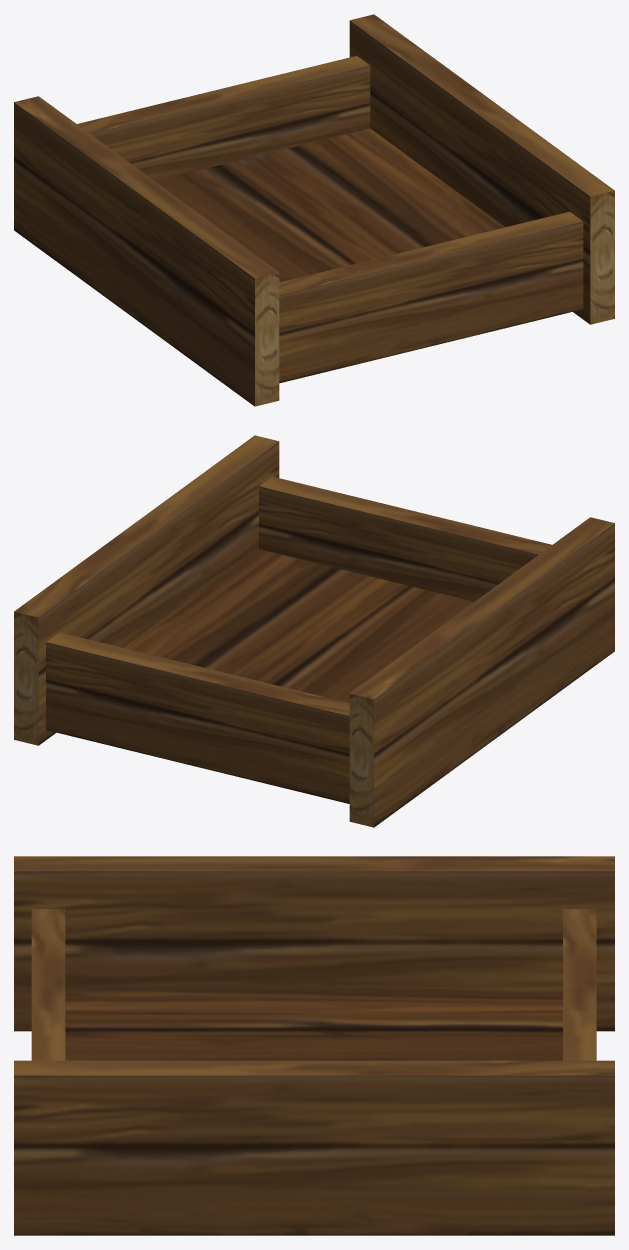
Rendered from Rack01.fbx.
3 renders of one model, top to bottom at view 1: azimuth 30°, elevation 25°; view 2: azimuth 150°, elevation 25°; view 3: azimuth 270°, elevation 25°, orthographic. The views are drawn at different scales.
Visible parts, largest first — view 1: Rack01; view 2: Rack01; view 3: Rack01.
Part boxes in pixels (left/top/right/bottom): Rack01: left=14, top=14, right=614, bottom=406; Rack01: left=14, top=435, right=614, bottom=827; Rack01: left=14, top=856, right=614, bottom=1235.
Bounding box in the file's own units: 1.73 × 0.5873 × 2.
